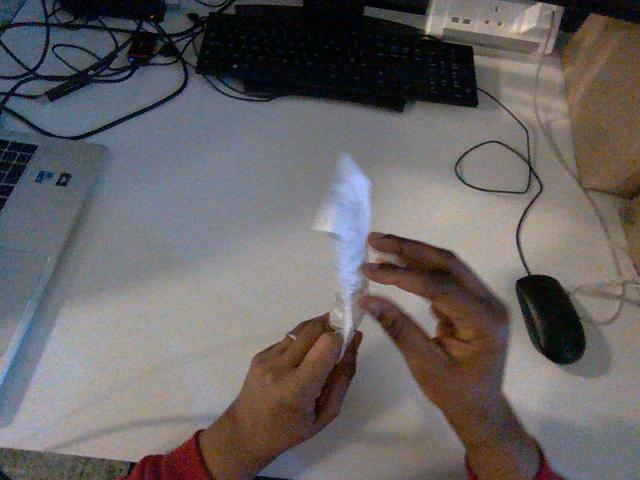syringe: (313, 154, 370, 352)
